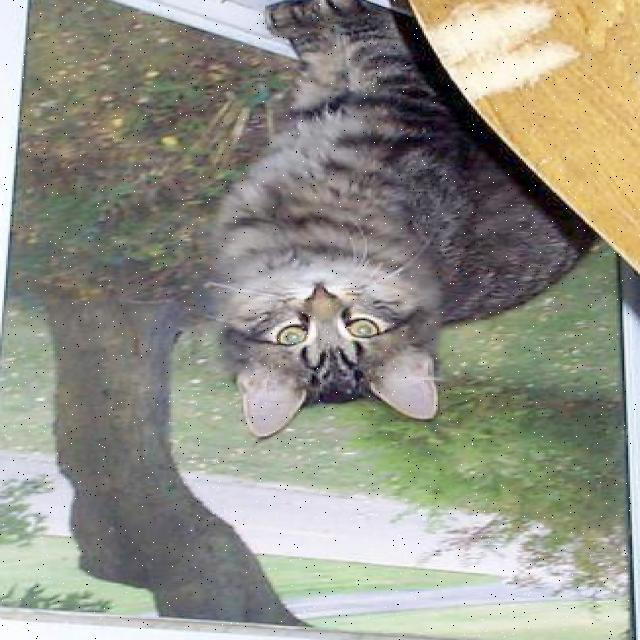Cat: (211, 244, 460, 441)
